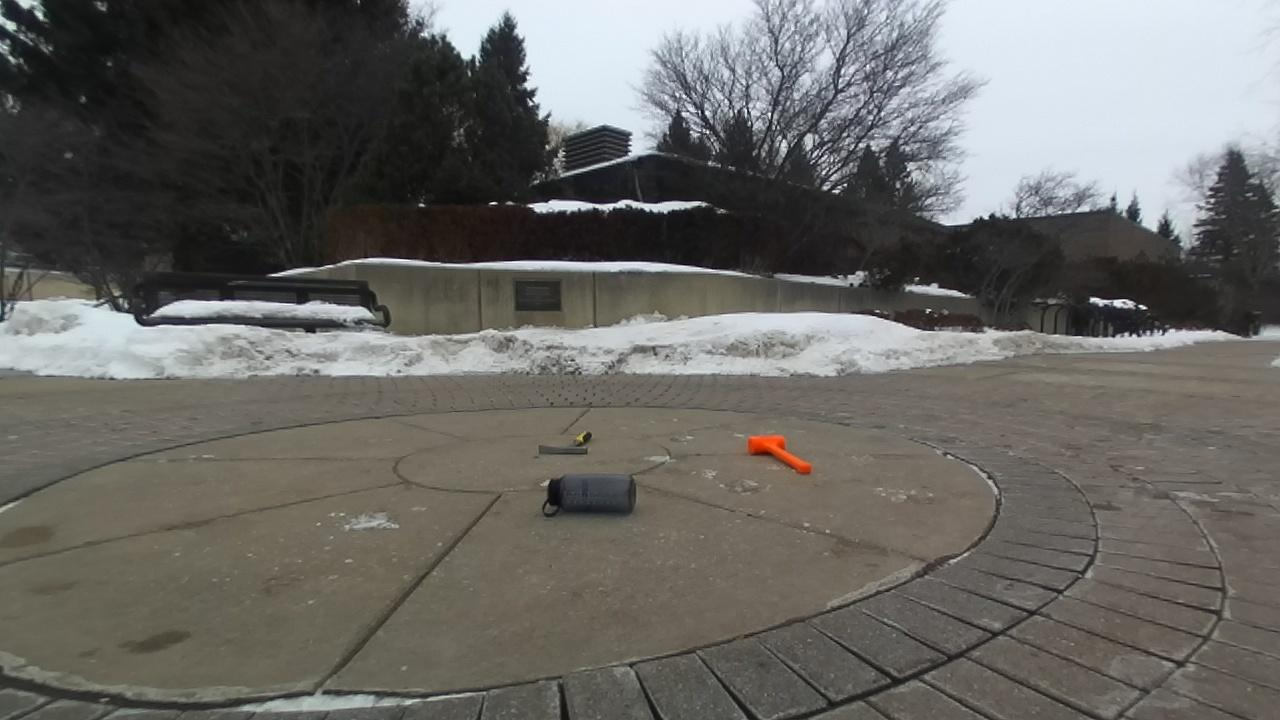bottle: (544, 474, 636, 514)
mallet: (749, 436, 810, 473)
pick: (539, 431, 592, 454)
